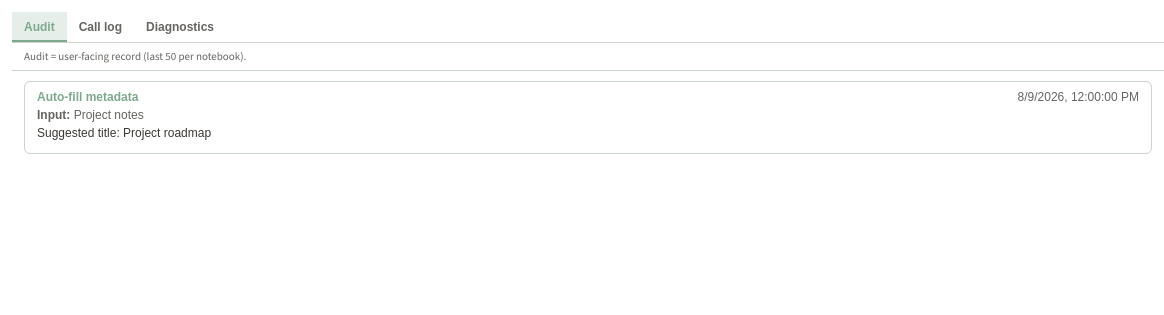
Scenario: AiHistoryPanel › switches to the Diagnostics tab and shows its panel
Click the tab "Diagnostics".
click(180, 27)  # box [134,12,226,42]
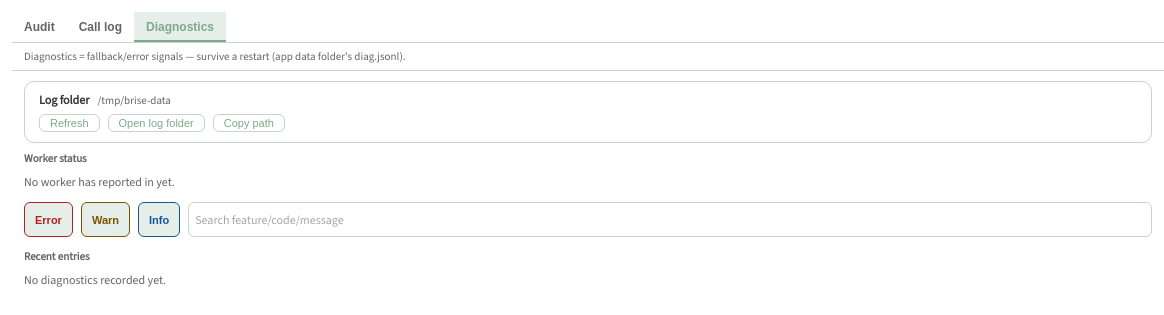
Check: the element with test id "ai-diag-panel" is shown
Check: the element with test id "ai-history-panel" is gone
